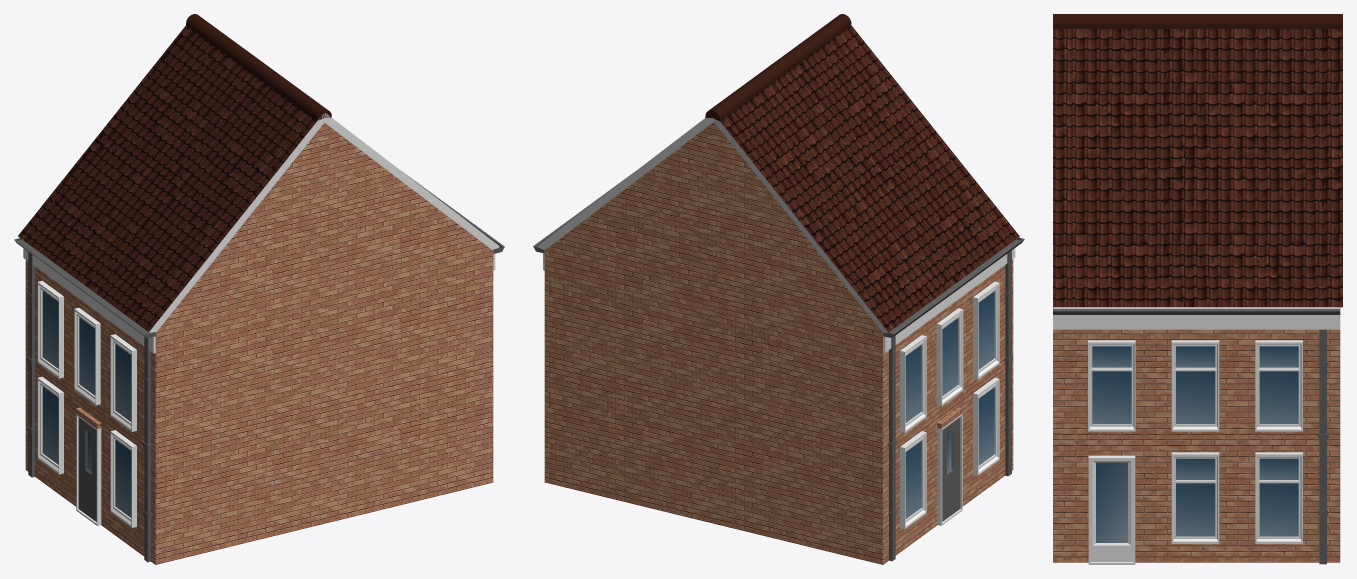
File: It_Bûthús_20.fbx
The picture shows the model from 3 angles, left to right: view 1: azimuth 30°, elevation 25°; view 2: azimuth 150°, elevation 25°; view 3: azimuth 270°, elevation 25°; orthographic projection. The views are drawn at different scales.
Visible parts, largest first — view 1: It_Bûthús_20; view 2: It_Bûthús_20; view 3: It_Bûthús_20.
Boxes of the visible parts, x1=… form: It_Bûthús_20: x1=14, y1=14, x2=504, y2=564; It_Bûthús_20: x1=533, y1=14, x2=1024, y2=564; It_Bûthús_20: x1=1053, y1=14, x2=1342, y2=564.
Size of the model in its own units: 929 by 1018 by 585.
